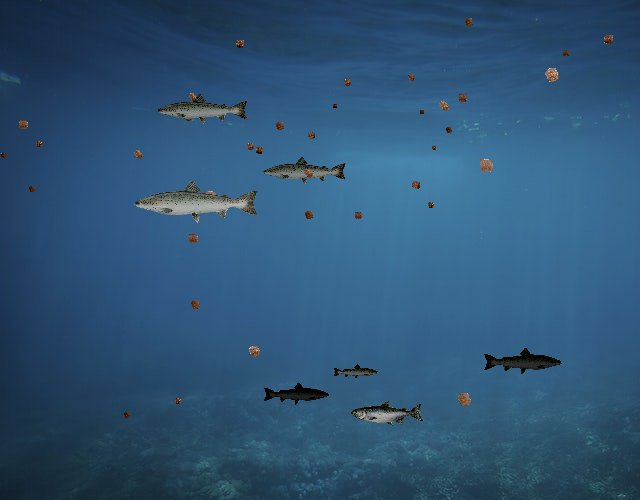Fish: (132, 178, 261, 224), (156, 93, 250, 127), (262, 155, 348, 186), (483, 347, 564, 376), (352, 400, 425, 427), (262, 381, 330, 406), (332, 363, 379, 380)
Pellet: (242, 339, 267, 364), (459, 12, 478, 31), (339, 74, 356, 91), (170, 394, 185, 409), (423, 198, 438, 212), (120, 408, 134, 422), (32, 137, 46, 151)
